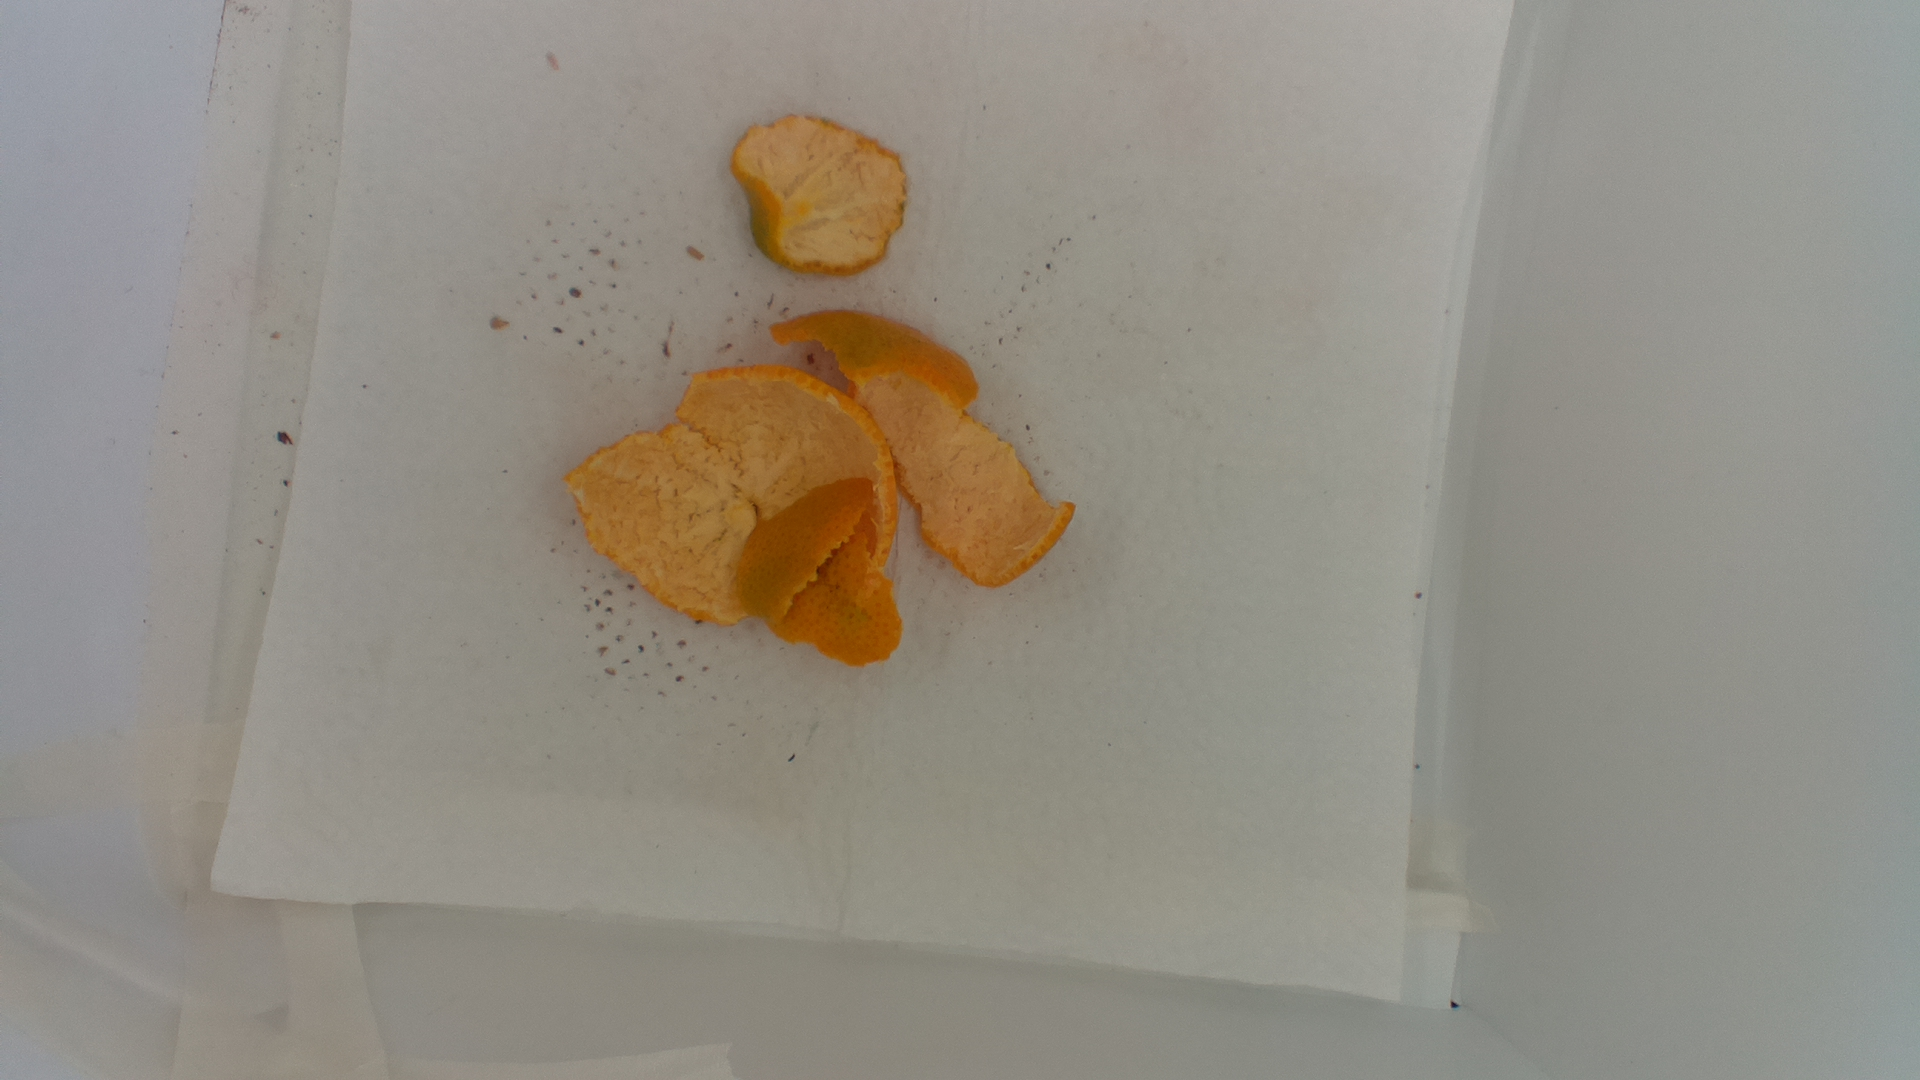fruit: (560, 113, 1087, 669)
